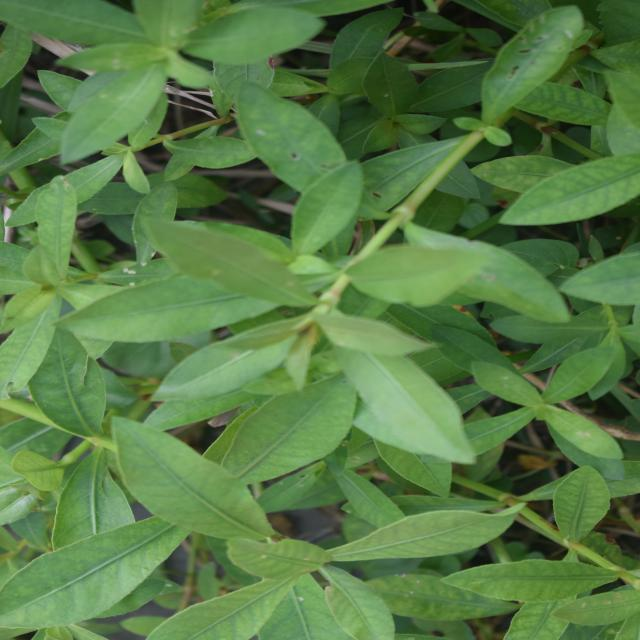Alligatorweed: (208, 101, 490, 529), (0, 2, 214, 487)
